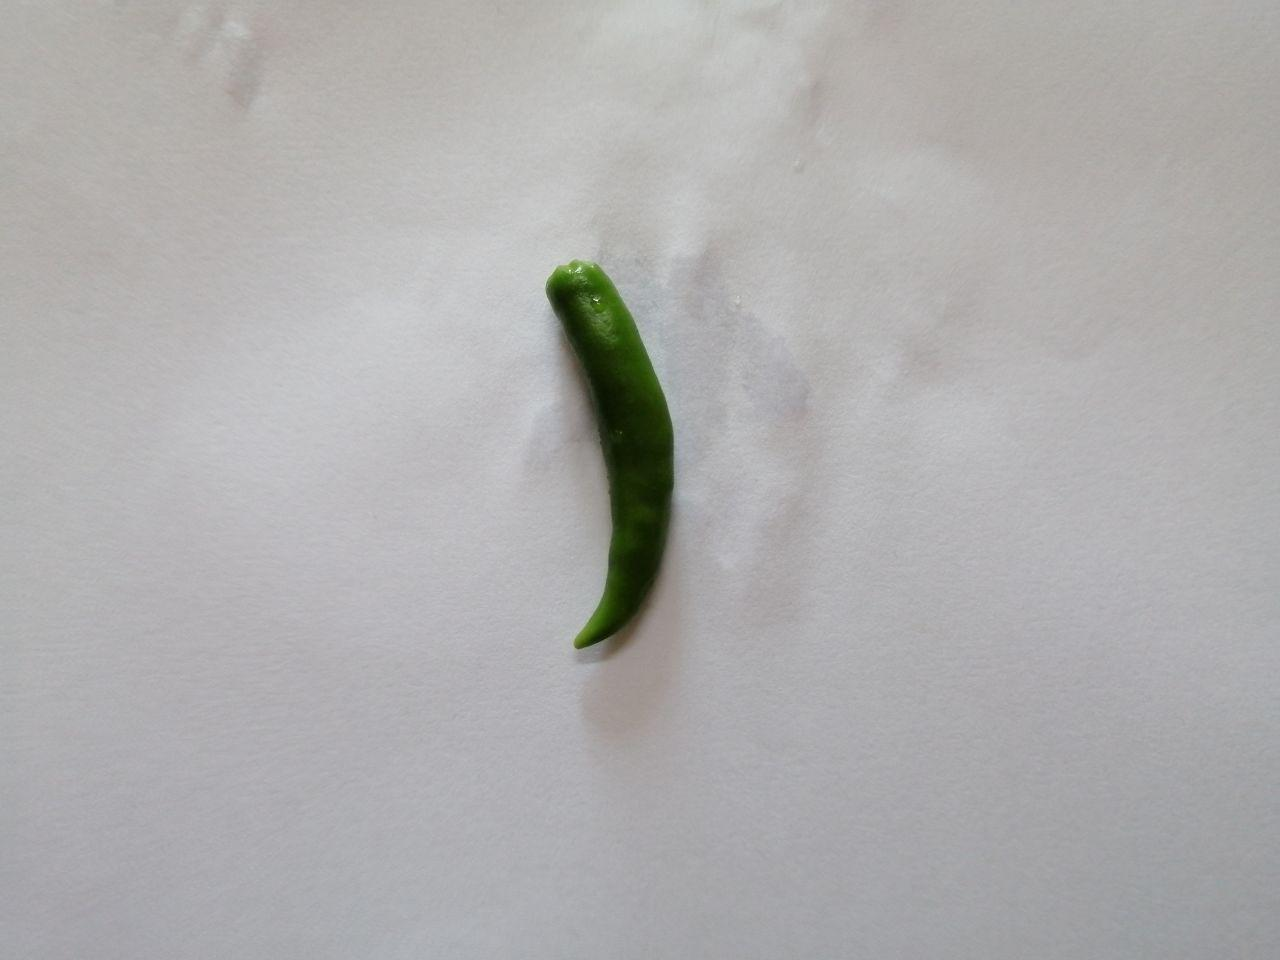lada hijau: (527, 237, 716, 675)
